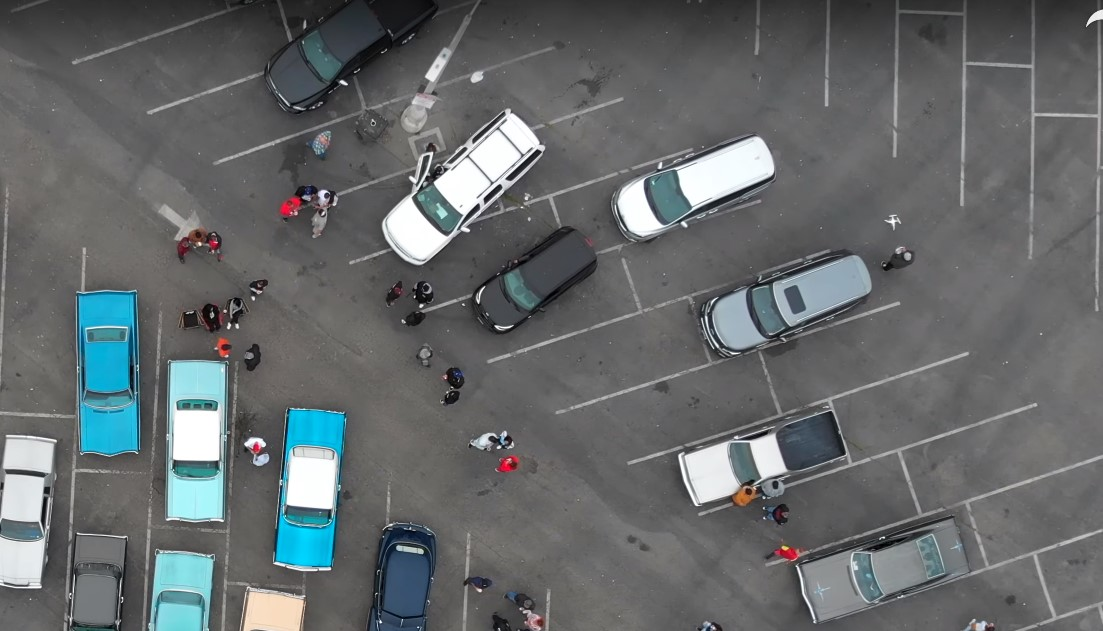araba: (378, 103, 545, 263), (689, 248, 882, 359), (609, 132, 779, 246), (788, 520, 972, 620), (680, 404, 857, 507), (262, 398, 355, 573), (464, 224, 596, 336), (69, 282, 146, 464), (164, 352, 235, 531), (1, 432, 64, 589), (371, 512, 445, 631), (144, 547, 221, 631), (66, 530, 130, 631), (242, 580, 317, 631)
insan: (508, 588, 545, 631), (762, 540, 806, 564), (756, 467, 783, 504), (879, 242, 914, 270), (241, 340, 268, 375), (223, 289, 250, 324), (351, 105, 381, 136), (763, 499, 794, 528), (468, 429, 500, 456), (245, 435, 272, 467), (198, 296, 221, 330), (309, 124, 335, 154), (730, 482, 756, 511), (465, 571, 492, 598), (246, 275, 272, 302), (310, 206, 333, 236), (176, 228, 196, 261), (385, 275, 407, 305), (275, 194, 302, 218), (414, 341, 436, 369), (311, 186, 340, 206), (409, 282, 438, 302), (440, 368, 472, 386), (401, 305, 429, 325), (215, 335, 234, 358), (209, 233, 225, 260), (495, 452, 517, 470), (436, 387, 464, 401), (493, 428, 513, 446), (963, 617, 988, 631)
